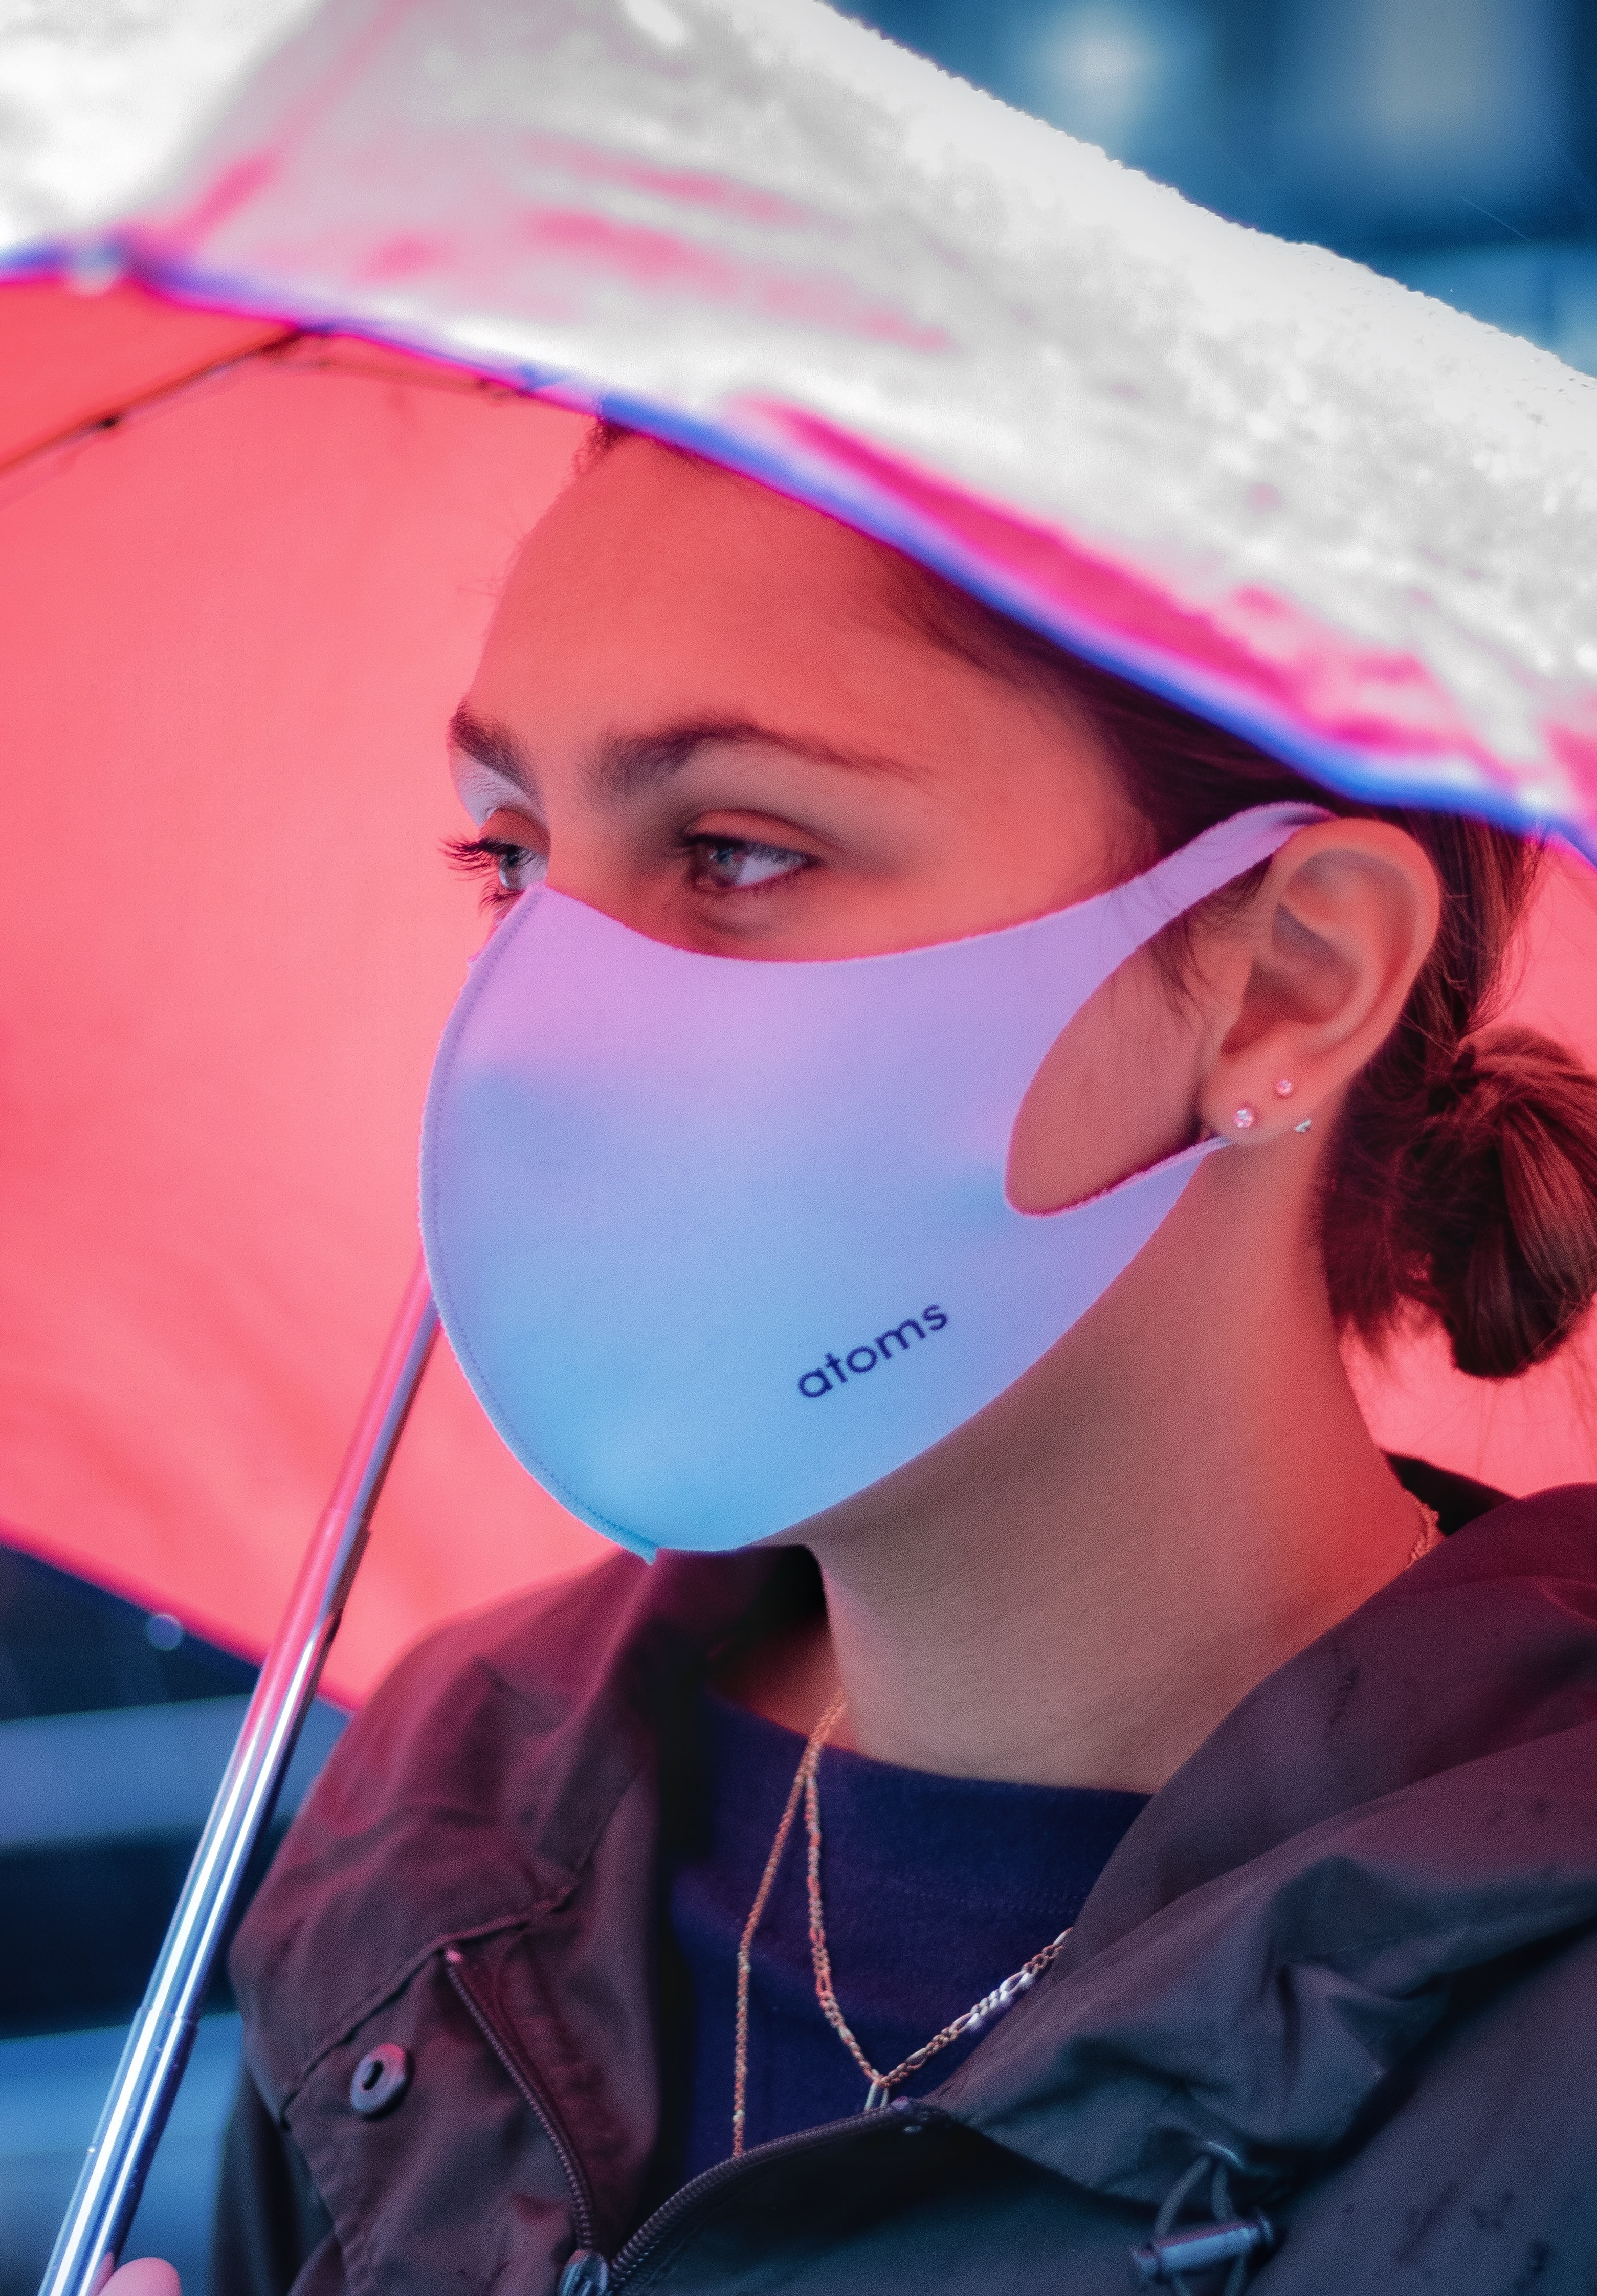mask: (379, 891, 1320, 1558)
person: (159, 336, 1597, 2296)
